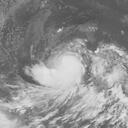cyclone: (23, 41, 120, 114)
